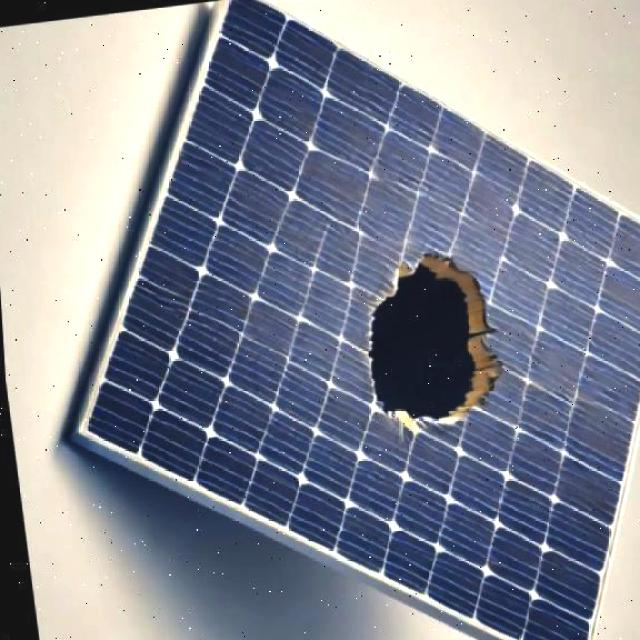Anomaly Solar Panel: (76, 0, 640, 640)
Structural Damage: (352, 237, 508, 433)
